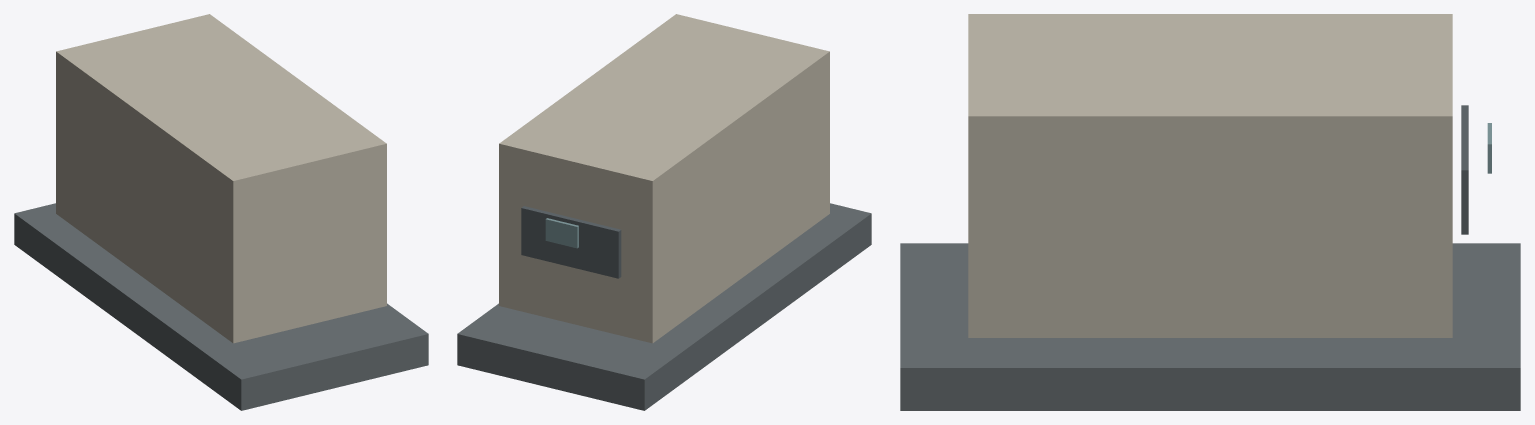
File: iz3_environment_van_shell_01.glb
The picture shows the model from 3 angles, left to right: view 1: azimuth 30°, elevation 25°; view 2: azimuth 150°, elevation 25°; view 3: azimuth 270°, elevation 25°; orthographic projection. The views are drawn at different scales.
Visible parts, largest first — view 1: cabinet, base; view 2: cabinet, base, panel, display; view 3: cabinet, base, panel.
Part boxes in pixels (box(x1,y1,x2,y2)): cabinet: box(56, 14, 386, 343); base: box(14, 203, 428, 410); cabinet: box(499, 14, 829, 343); base: box(457, 203, 871, 410); panel: box(521, 206, 621, 278); display: box(545, 218, 578, 248); cabinet: box(968, 14, 1452, 337); base: box(900, 243, 1520, 410); panel: box(1461, 105, 1468, 234).
Bounding box in the file's own units: 2 × 2.12 × 4.2.
